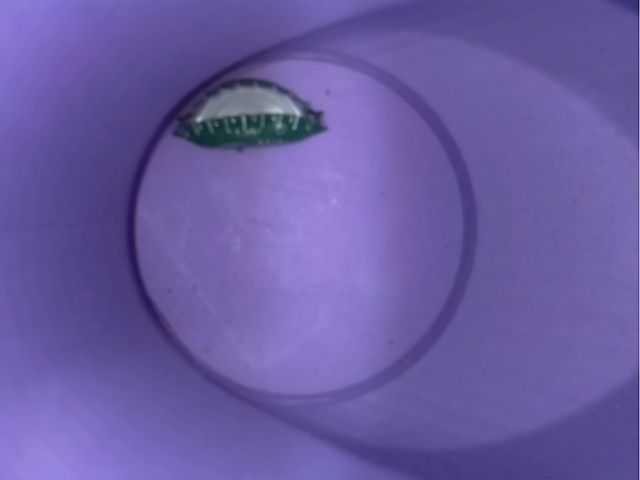capsule: (148, 66, 334, 169)
